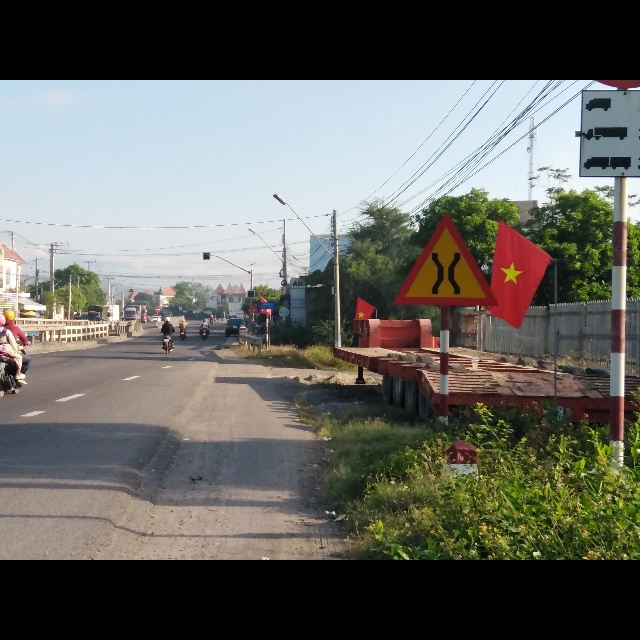Cầu hẹp: (391, 214, 497, 309)
